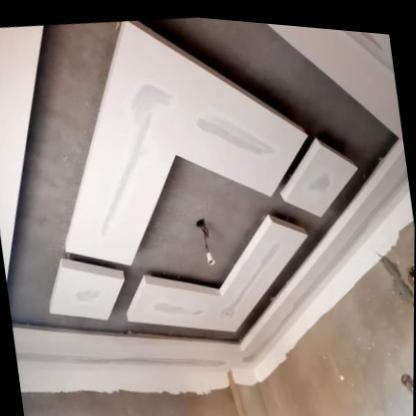Gypsum Board: (0, 0, 416, 401)
